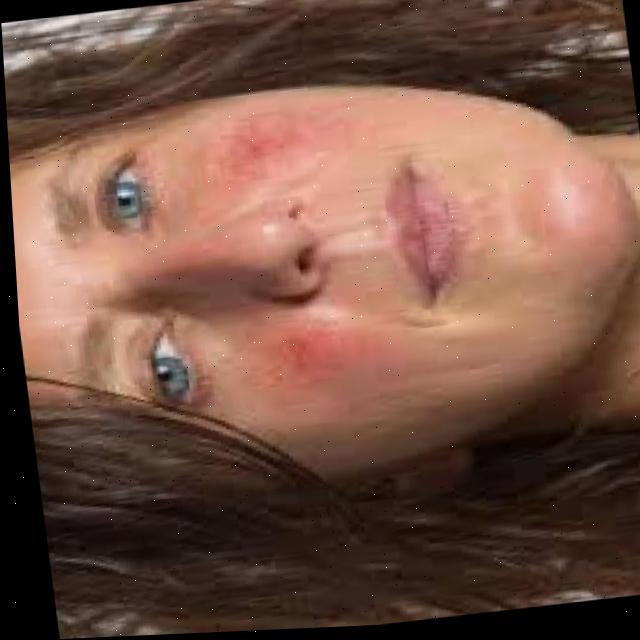Rosacea: (233, 310, 367, 415), (194, 98, 306, 188)
